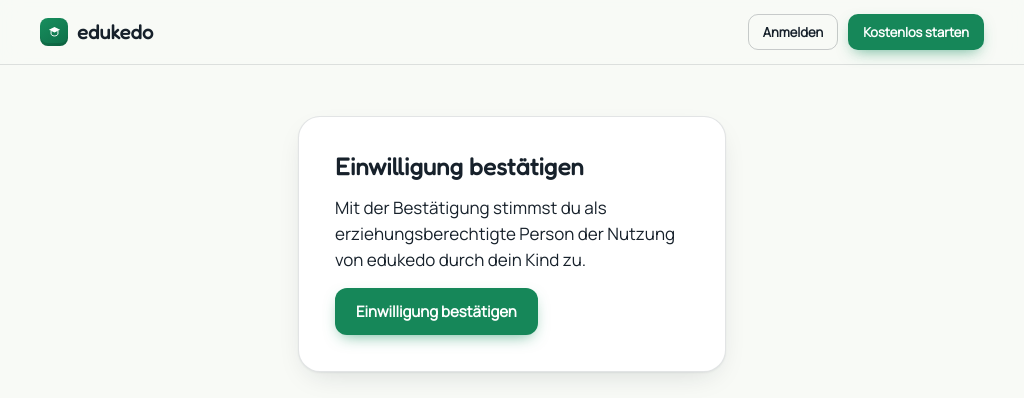
Test: ConsentConfirm, Zielseite des Bestätigungslinks (F-08, Review WEB-11) › meldet eine bereits bestätigte Einwilligung freundlich
The width and height of the screenshot is (1024, 398).
What coordinates should you click on to do the following:
click the button "Einwilligung bestätigen"
I would click on:
 (436, 311)
Its box is [335, 288, 538, 335].
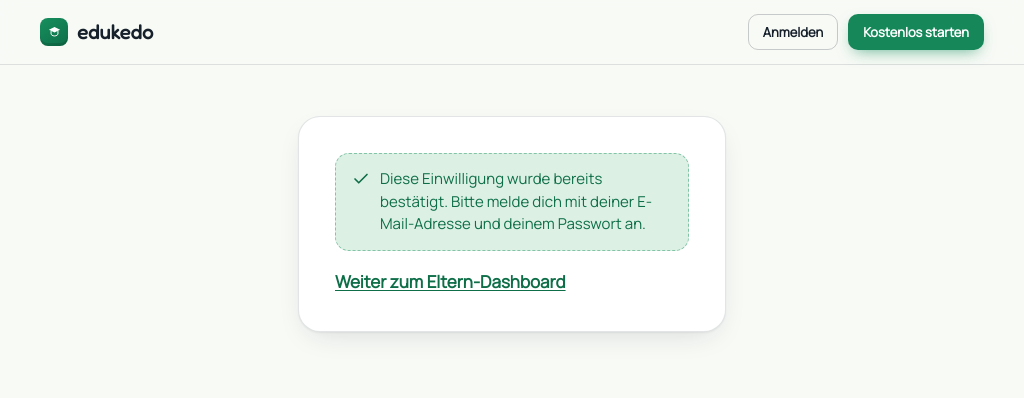
Expected: the text "bereits bestätigt" is shown, [380, 168, 652, 234]
